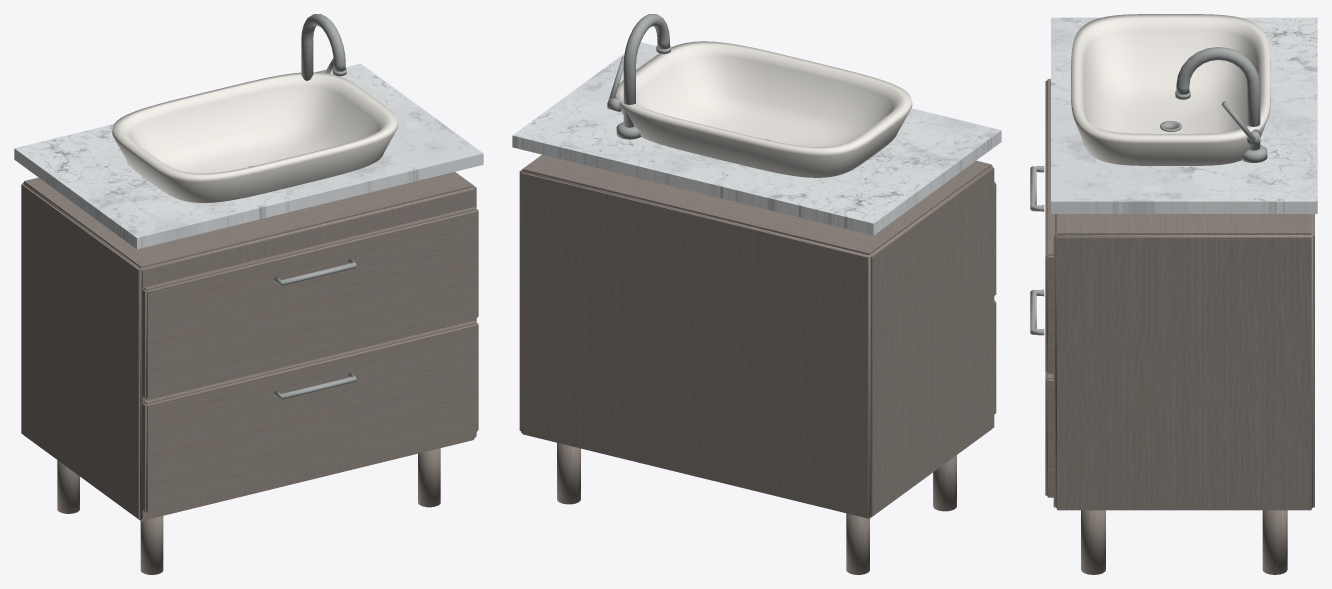
File: modern.vanity.gltf
3 renders of one model, left to right at view 1: azimuth 30°, elevation 25°; view 2: azimuth 150°, elevation 25°; view 3: azimuth 270°, elevation 25°, orthographic. The views are drawn at different scales.
Visible parts, largest first — view 1: modern.vanity.foot; view 2: modern.vanity.foot; view 3: modern.vanity.foot.
Part boxes in pixels (x1,y1,x2,y2): modern.vanity.foot: [14, 14, 483, 574]; modern.vanity.foot: [512, 14, 1001, 574]; modern.vanity.foot: [1030, 14, 1317, 574].
Bounding box in the file's own units: 0.8 × 1.01 × 0.528.
4 materials, 2 textured.
